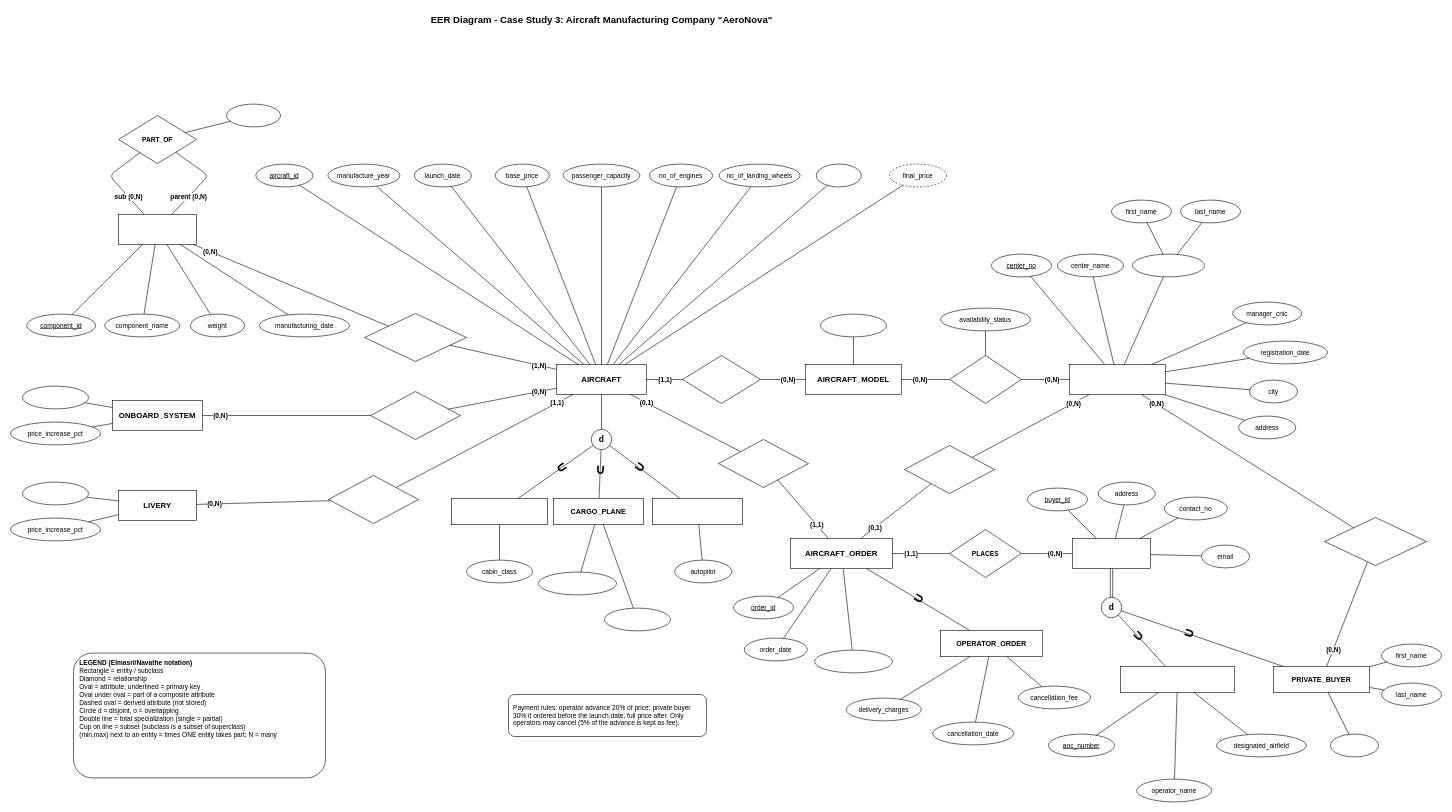
Image size: 1452x812. Some labels were removed from this diagram. The shapes that lost their labels are listed below. From the top down, each one's centre as x and y in pixels, then its label:
pixel 253 115: quantity
pixel 838 175: variant
pixel 157 229: COMPONENT
pixel 1168 265: manager_name
pixel 415 337: ASSEMBLED_FROM
pixel 853 325: model_name
pixel 55 397: system_name
pixel 721 379: IS_OF_MODEL
pixel 985 379: DISPLAYS
pixel 1117 379: DELIVERY_CENTER
pixel 415 415: INSTALLED_ON
pixel 763 463: FOR_AIRCRAFT
pixel 949 469: COLLECTED_AT
pixel 55 493: livery_color
pixel 373 499: HAS_LIVERY
pixel 499 511: PASSENGER_JET
pixel 697 511: HELICOPTER
pixel 1111 553: BUYER
pixel 1375 541: REGISTERS_WITH
pixel 577 583: pressurized_hold
pixel 637 619: max_payload
pixel 853 661: advance_payment
pixel 1177 679: AVIATION_OPERATOR
pixel 1354 745: cnic
